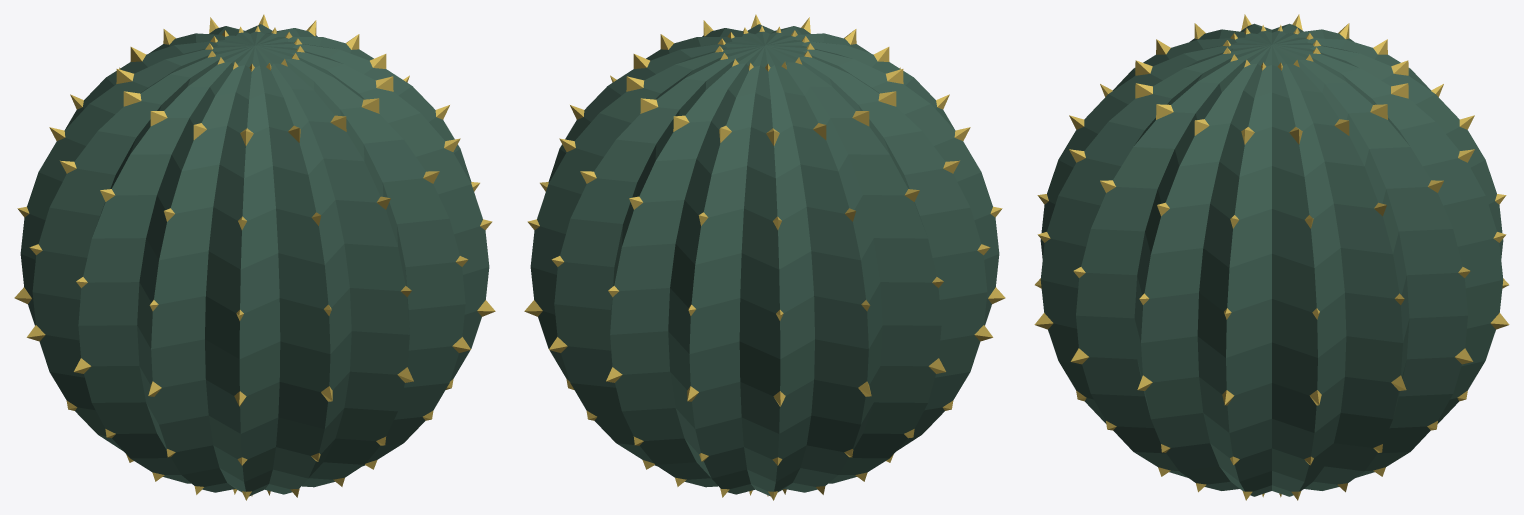
File: Cactus 1.fbx
3 renders of one model, left to right at view 1: azimuth 30°, elevation 25°; view 2: azimuth 150°, elevation 25°; view 3: azimuth 270°, elevation 25°, orthographic.
Parts seen in each view (by area): view 1: Sphere; view 2: Sphere; view 3: Sphere.
Boxes of the visible parts, x1,y1,x2,y2 form: Sphere: (14, 14, 495, 500); Sphere: (524, 14, 1005, 500); Sphere: (1034, 14, 1509, 500).
Bounding box in the file's own units: 492 × 497 × 492.
